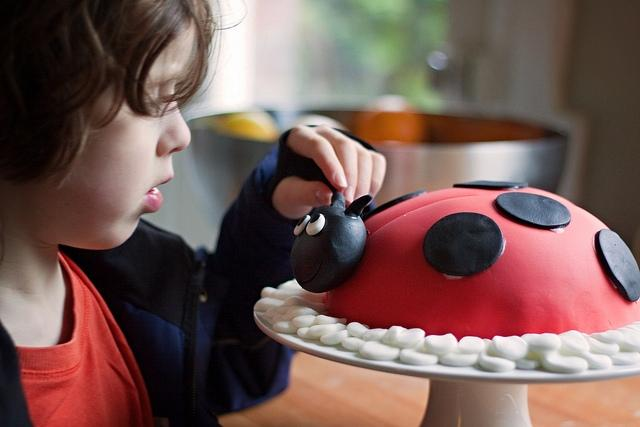lemon: (218, 108, 281, 141)
orange: (354, 94, 430, 142), (210, 102, 281, 144)
